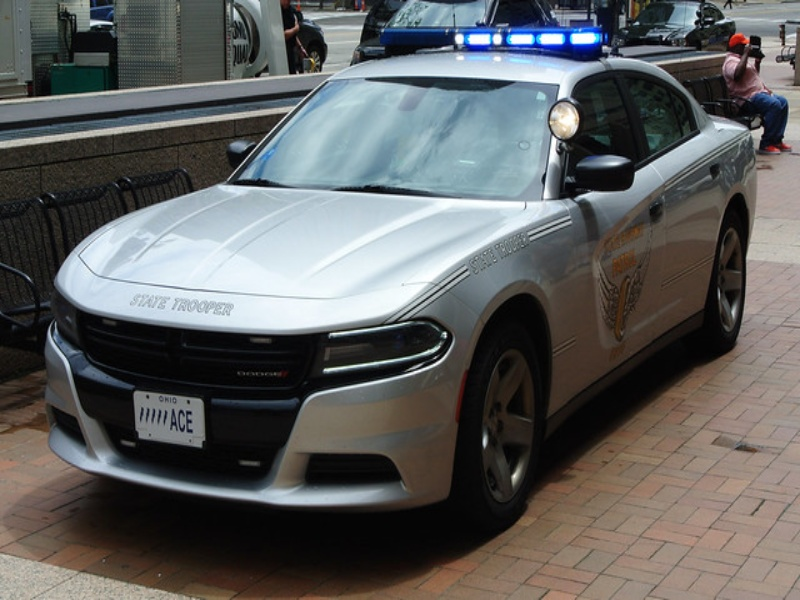policecar: (40, 8, 780, 522)
